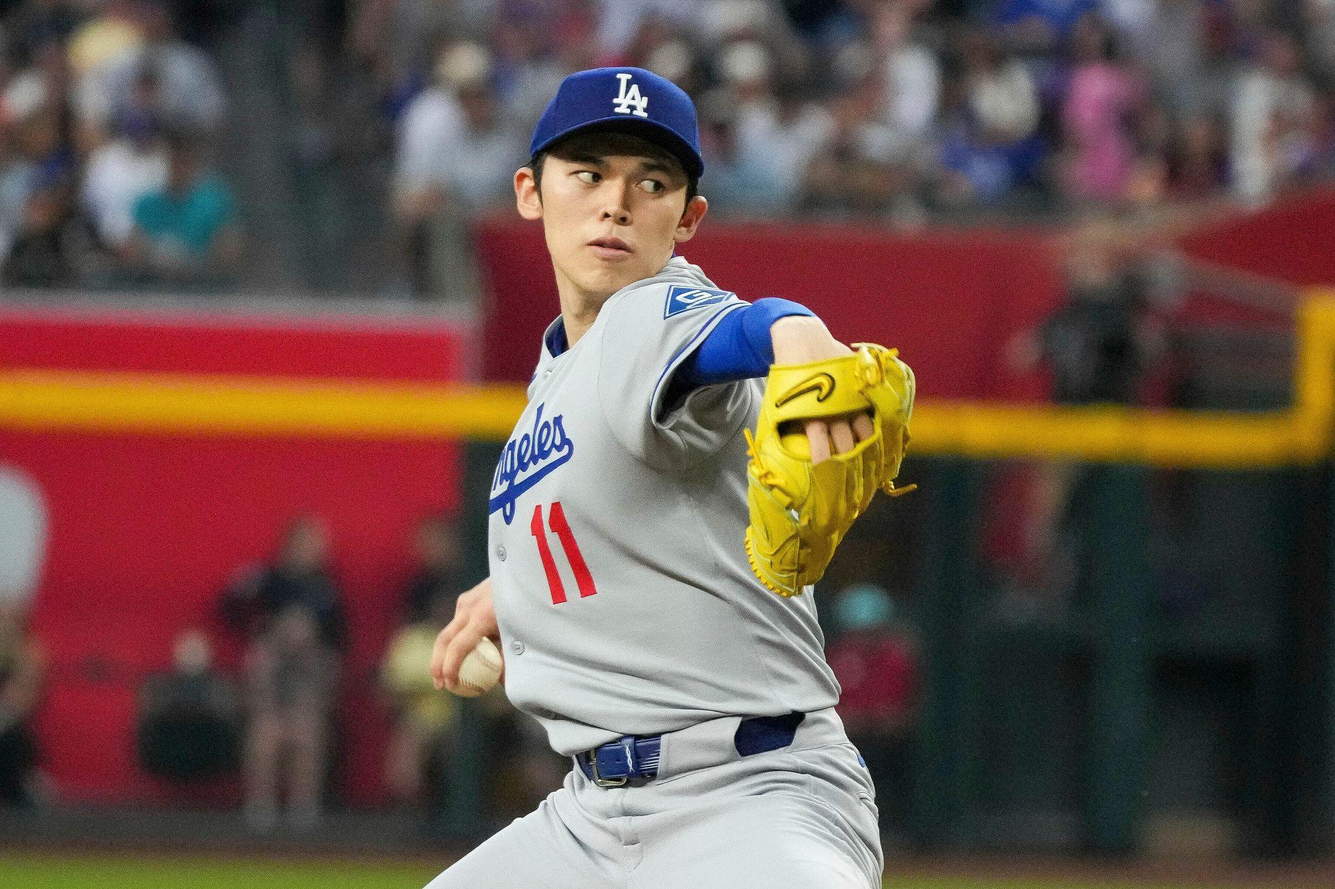baseball: (448, 636, 501, 697)
